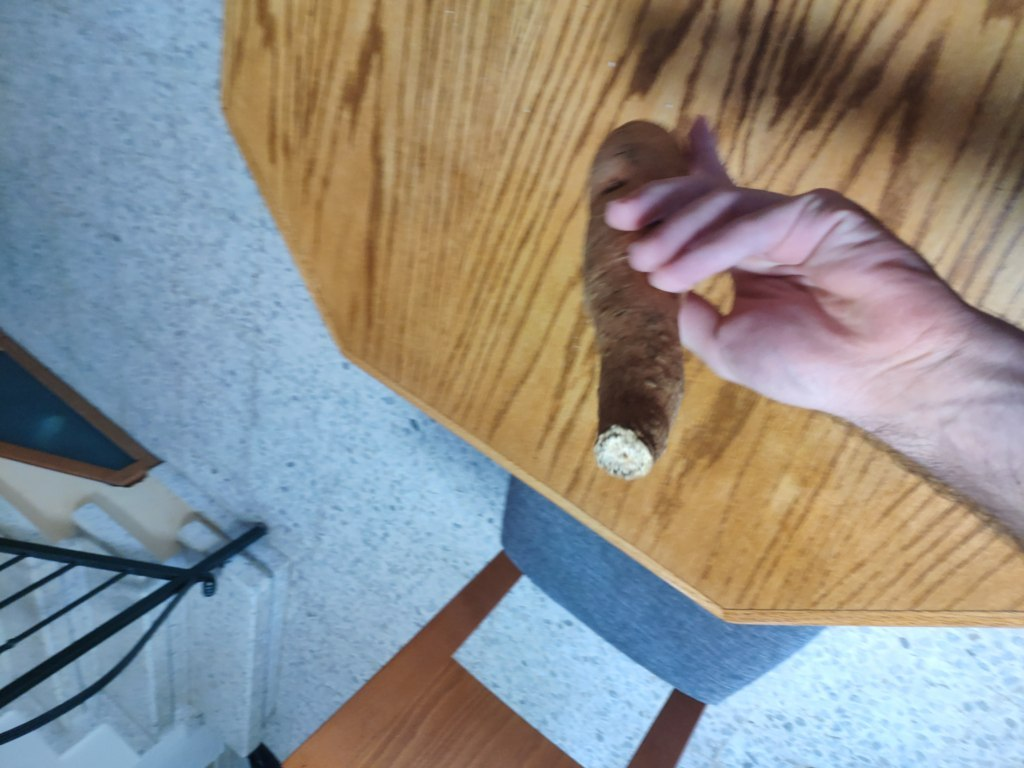Sweet Potato: (552, 143, 704, 451)
